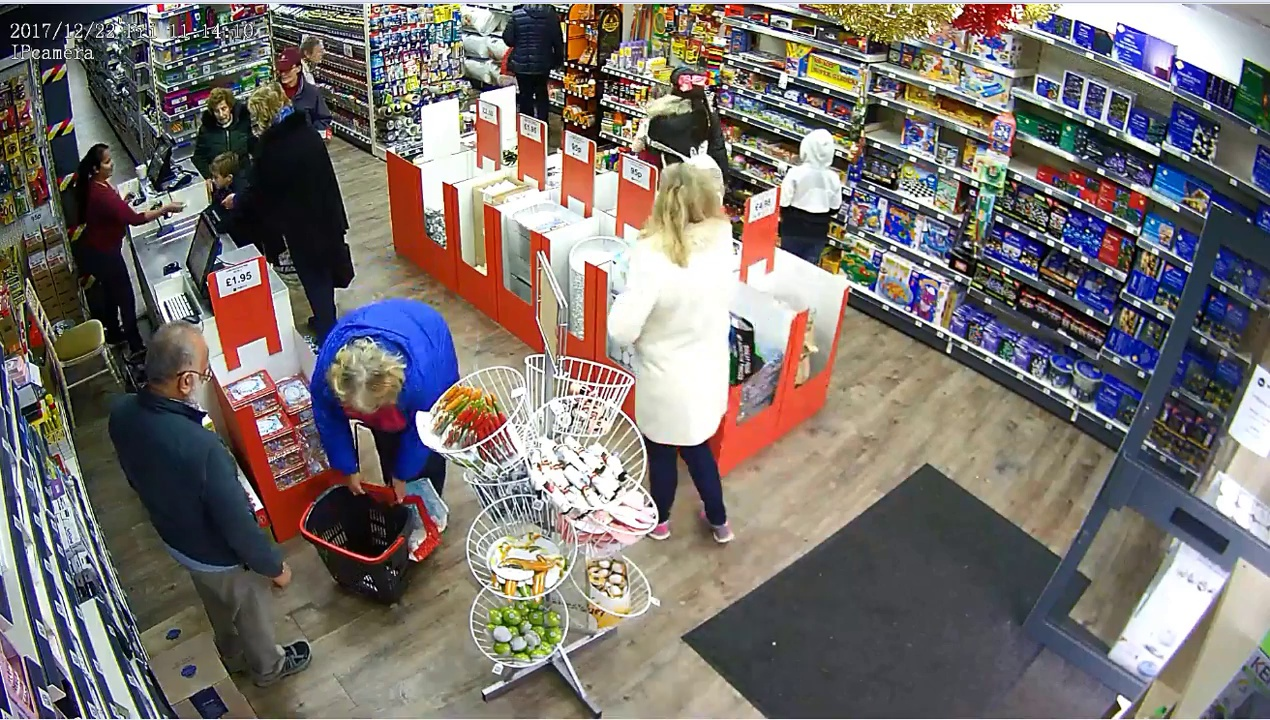face: (270, 60, 300, 86), (95, 149, 116, 177), (211, 100, 233, 126), (209, 164, 226, 196)
